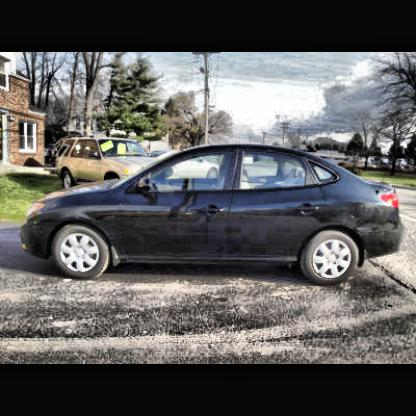Hyundai Elantra Sedan 2007: (21, 145, 406, 290)
